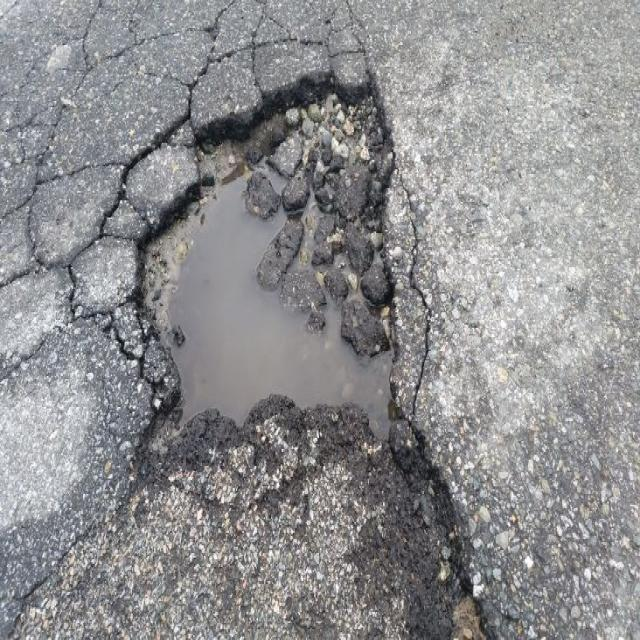pothole: (110, 60, 408, 477)
